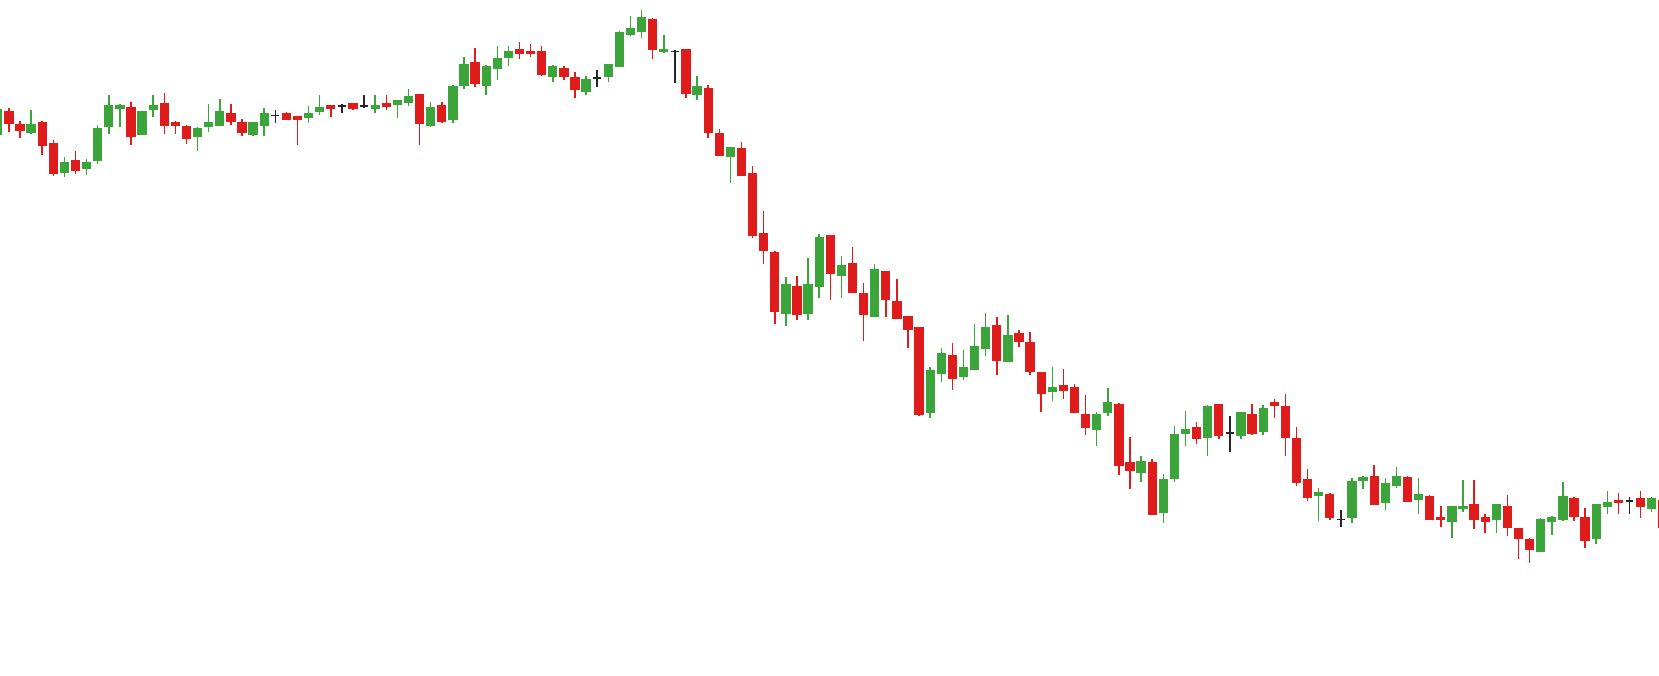sell: (514, 7, 659, 73)
